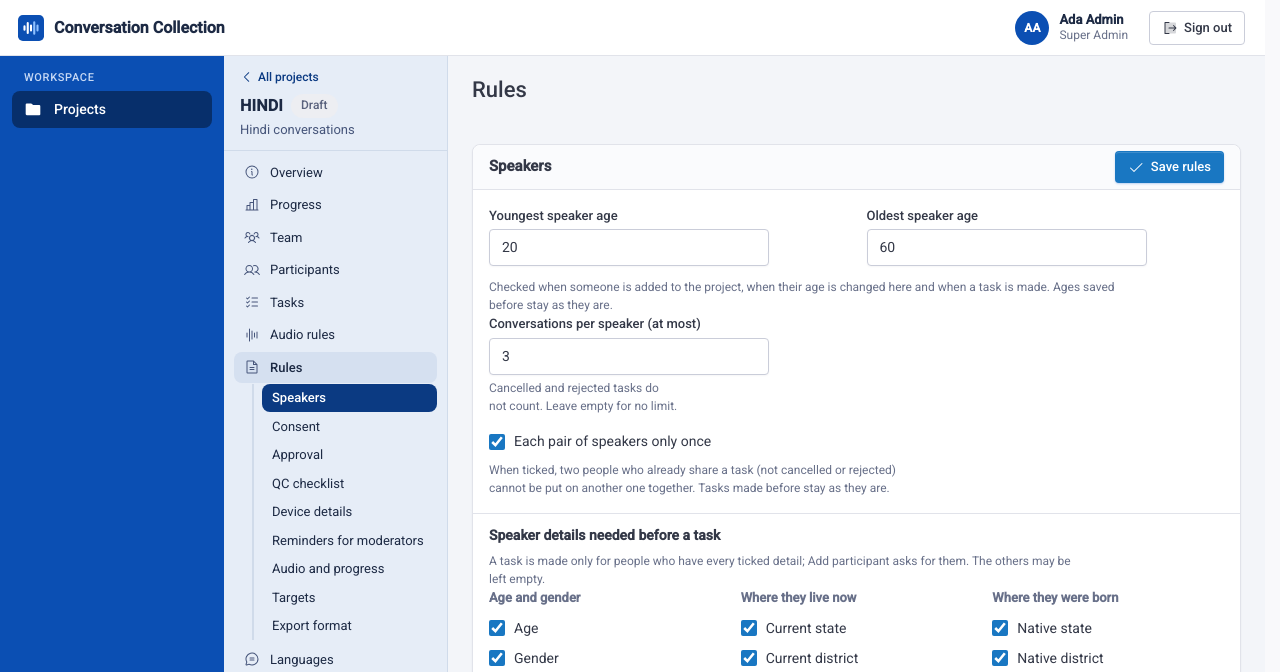
Scenario: project detail › says when the speaker ages are wrong and sends nothing (D-145)
Step 1. Replace the text in the number field labelled "Youngest speaker age" with "61" → (629, 248), box [489,229,769,266]
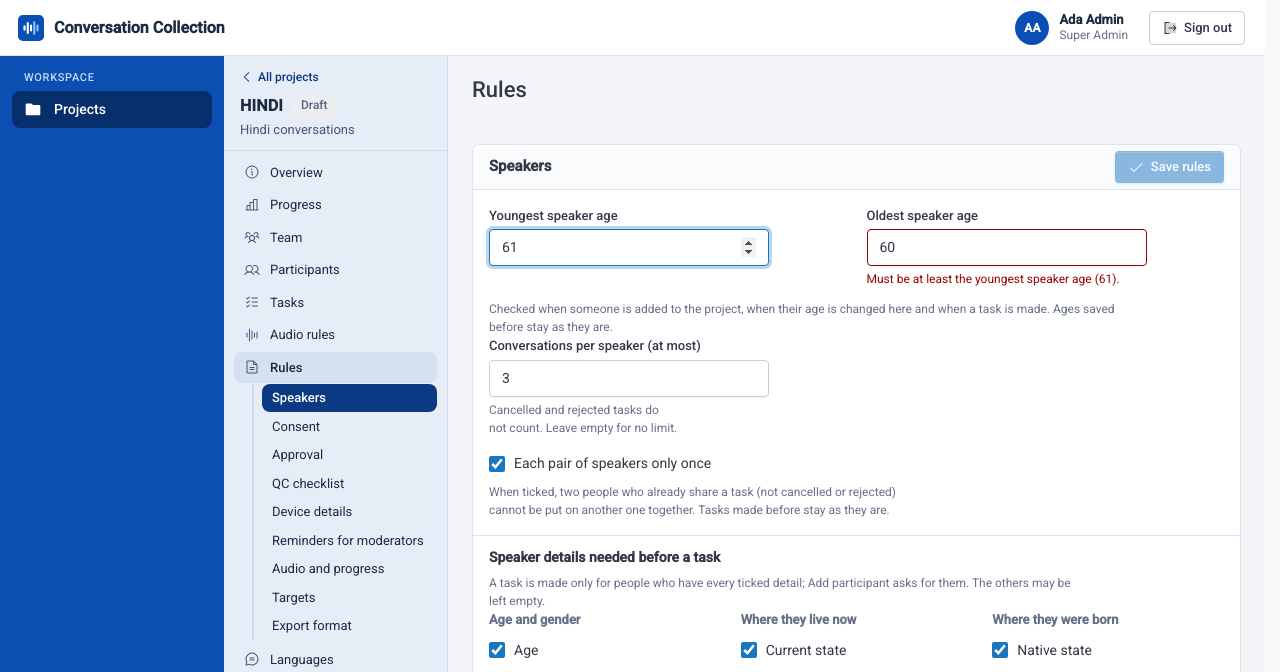
Now the button "Save rules" is disabled, box [1115,151,1224,183]
Step 2. Replace the text in the number field labelled "Youngest speaker age" with "0" → (629, 248), box [489,229,769,266]
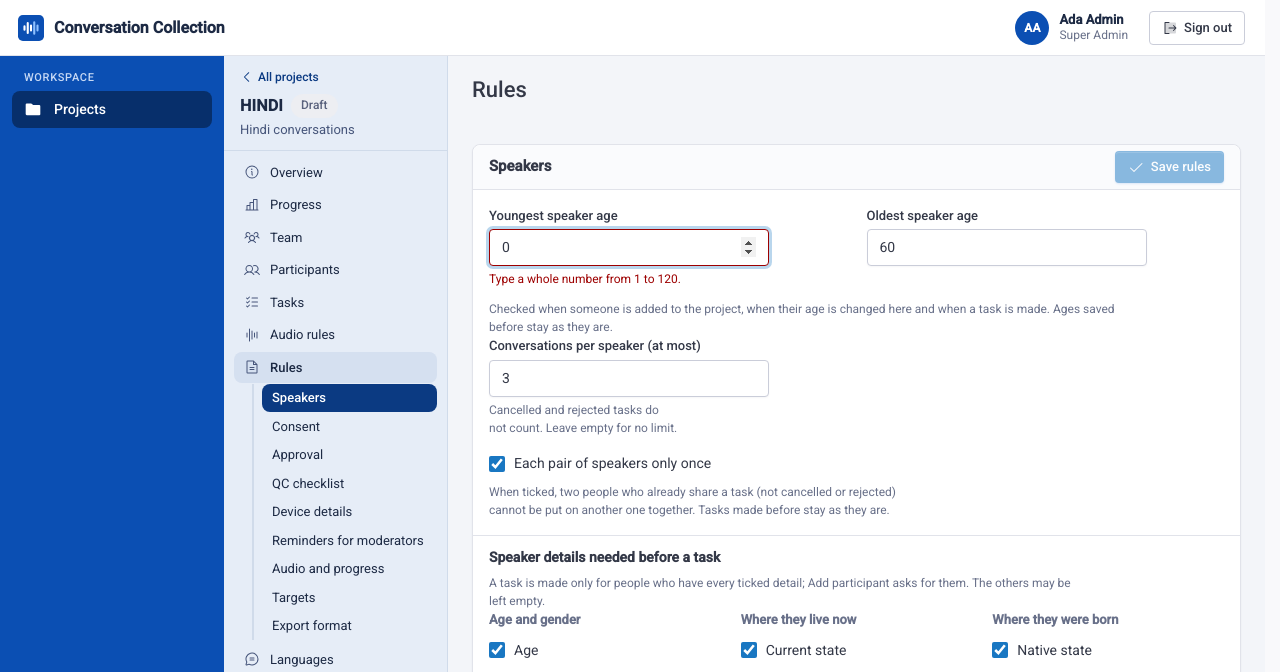
Now the button "Save rules" is disabled, box [1115,151,1224,183]
Step 3. Replace the text in the number field labelled "Youngest speaker age" with "60" → (629, 248), box [489,229,769,266]
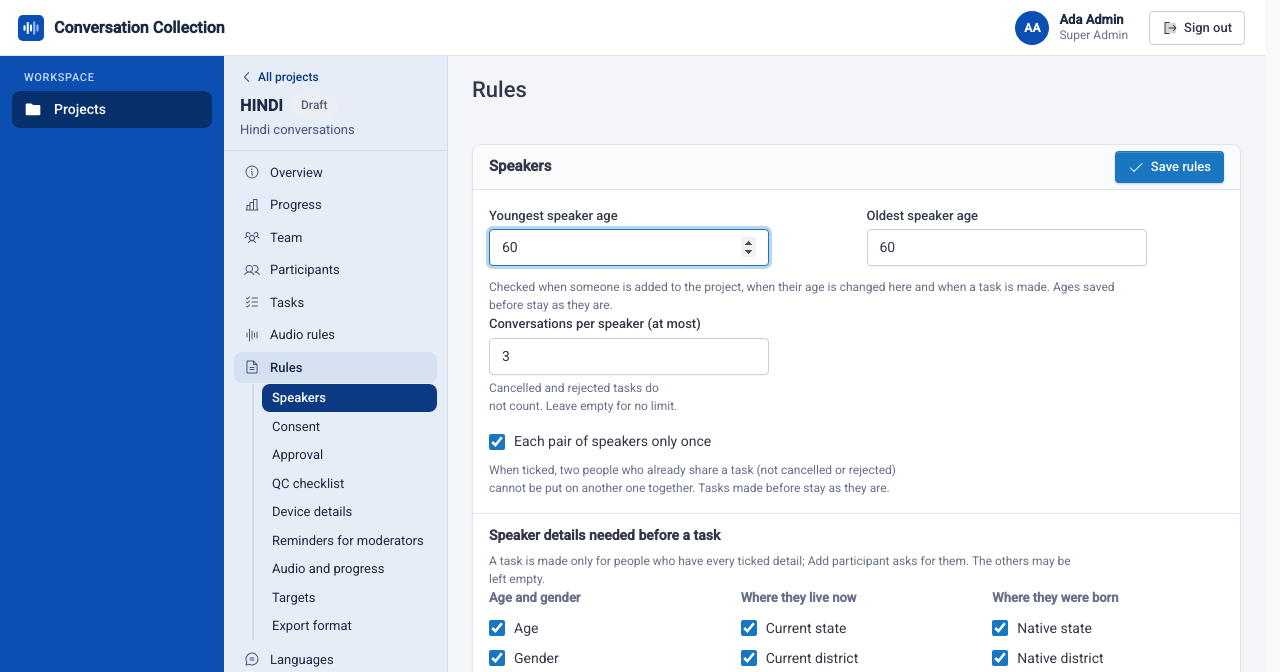
Now the button "Save rules" is enabled, box [1115,151,1224,183]
Step 4. Clear the number field labelled "Oldest speaker age" → (1006, 248), box [866,229,1146,266]
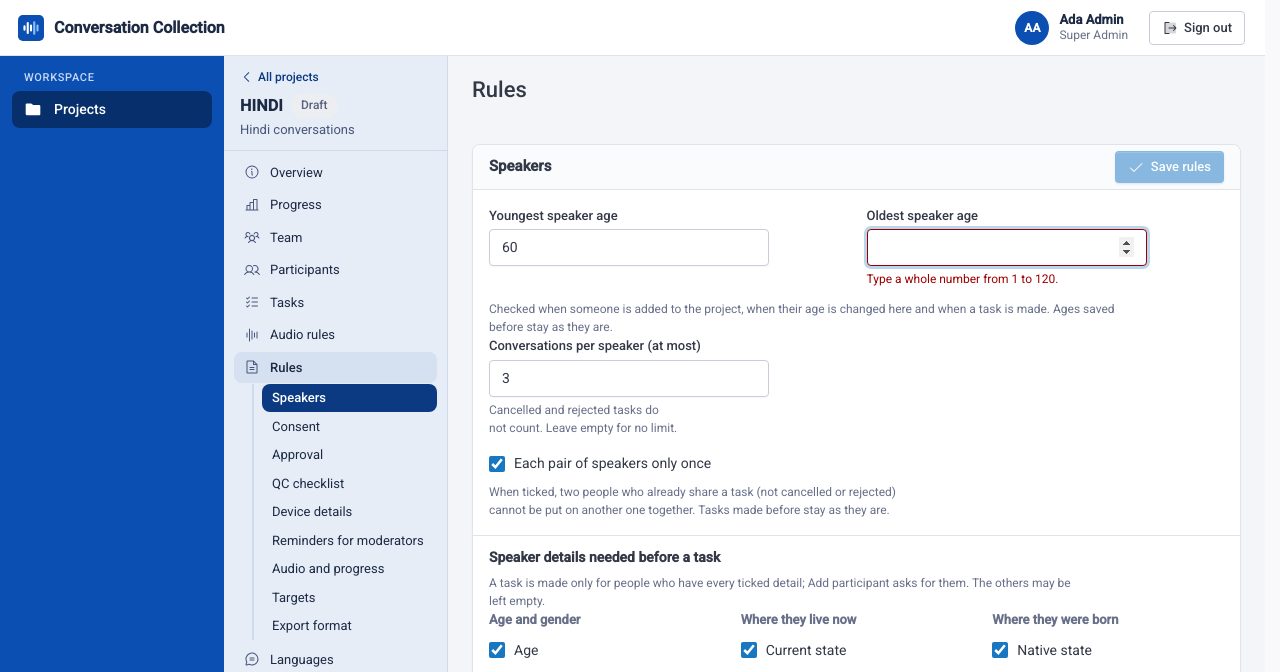
Now the button "Save rules" is disabled, box [1115,151,1224,183]
